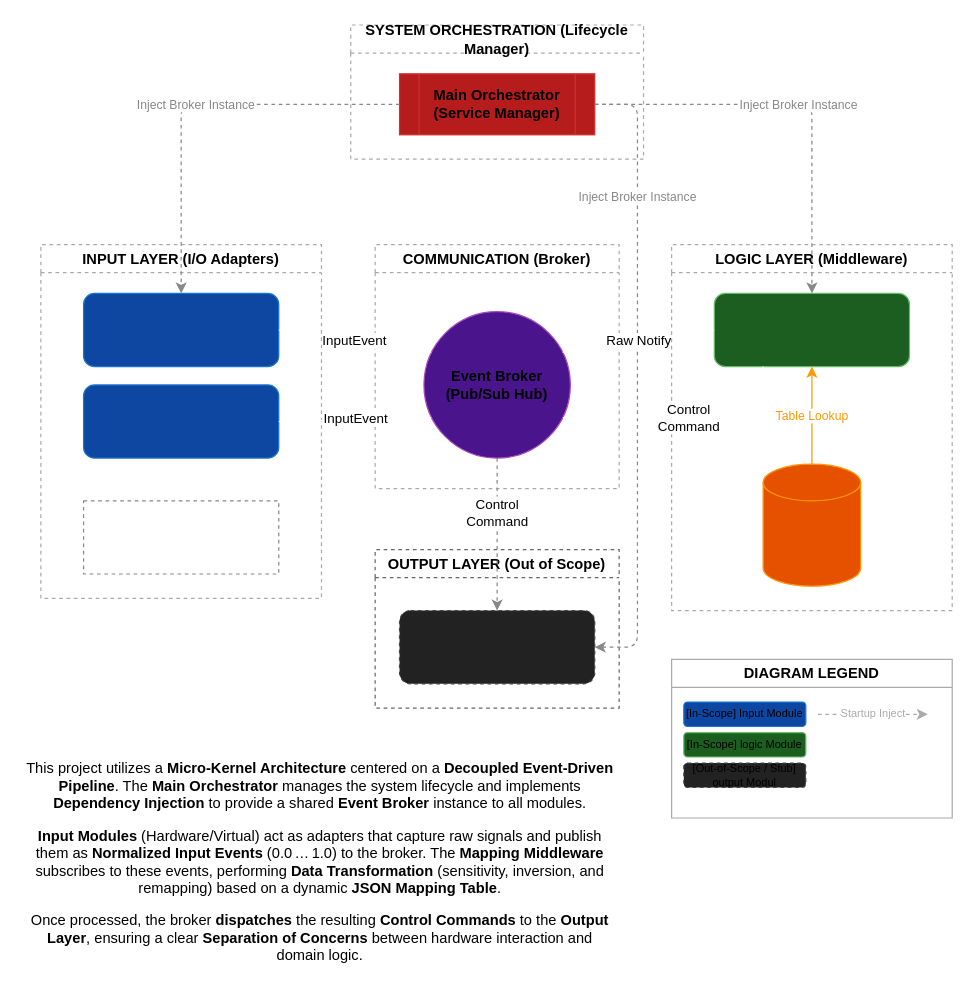
Image size: 974x999. Some labels were removed from this diagram. The shapes that lost their labels are listed below. From the top down, each one's centre as x and y in pixels, then its label:
At [180,329]: "[Hardware] Steam Deck Driver".
At [811,329]: "Mapping Middleware (Transformation)".
At [180,421]: "[Virtual] GUI Input Module".
At [180,537]: "BaseInput Class (Interface Contract)".
At [811,524]: "Mapping Table (JSON Config)".
At [496,646]: "Output Adapter (e.g. ArtNet Mock)".
